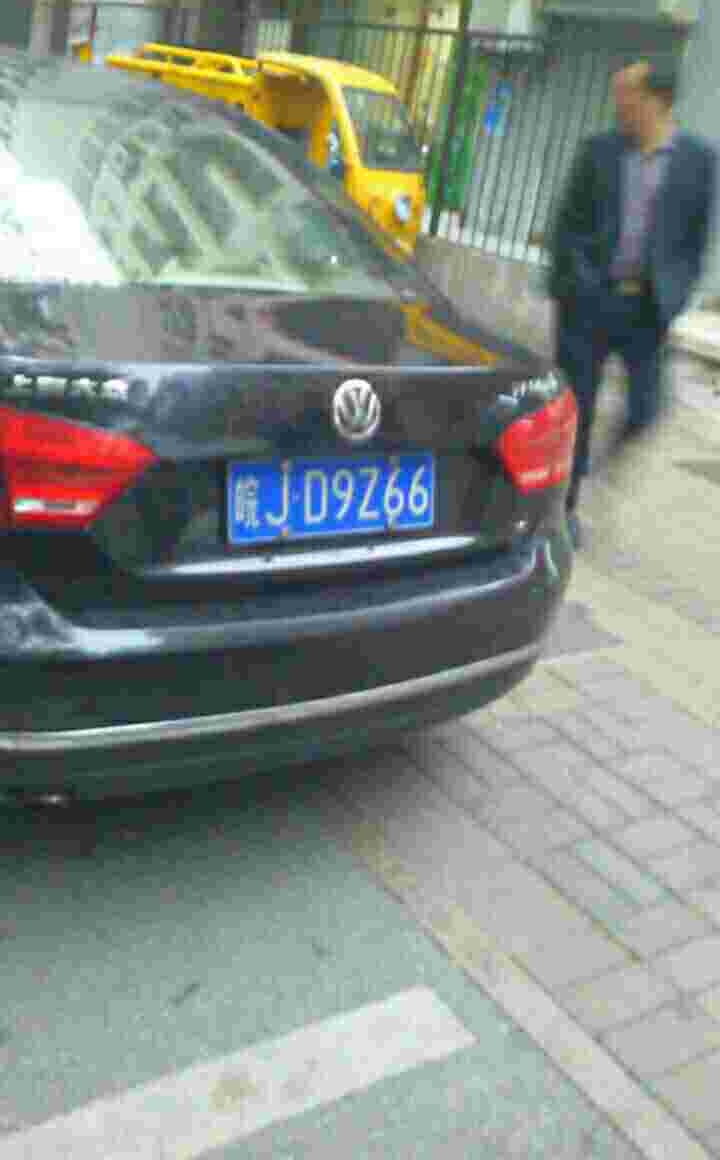license_plate: (231, 461, 439, 549)
